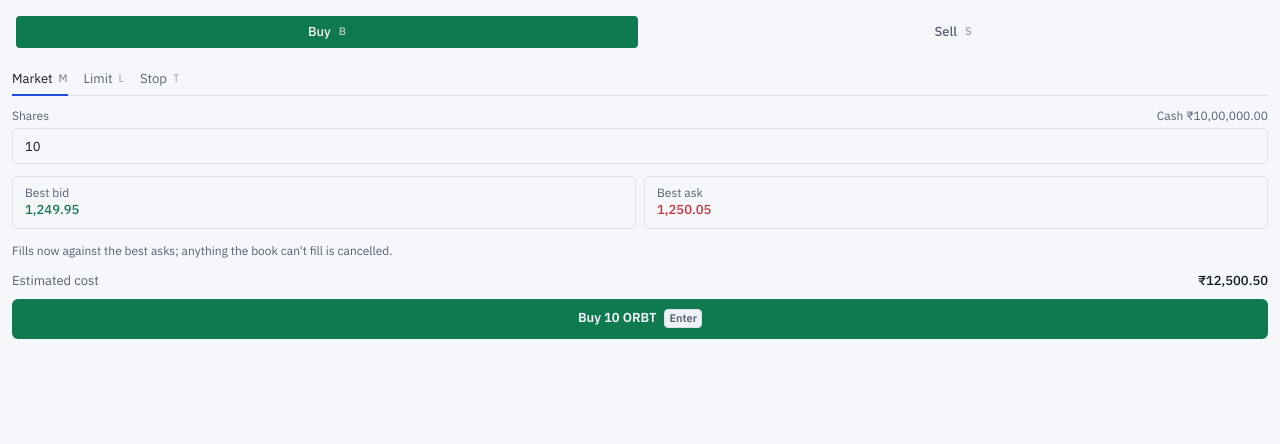
Scenario: OrderTicket › clears the last order's outcome when the type changes
Click the button "Buy 10 ORBT Enter".
click(640, 319)  # box [12, 299, 1268, 339]
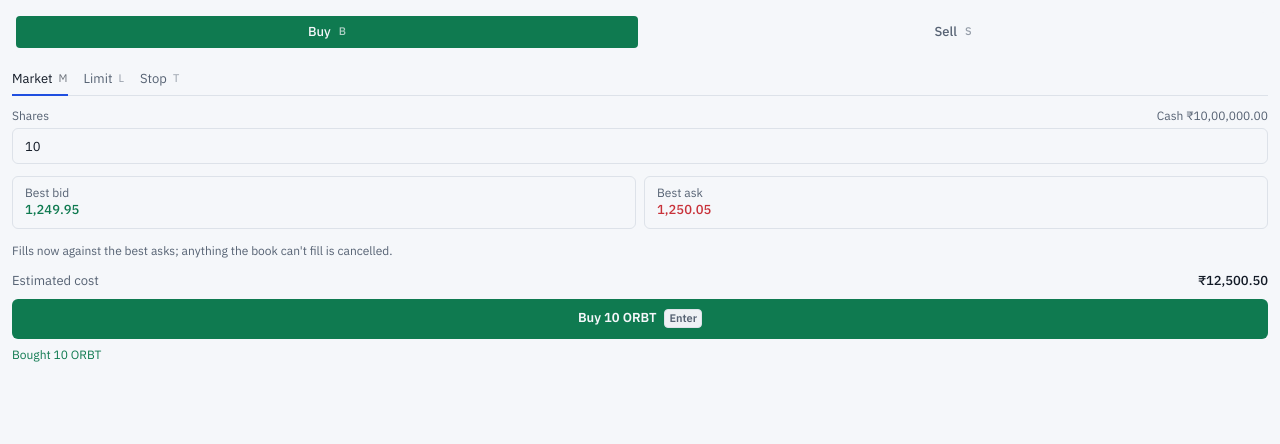
Now the text "Bought 10 ORBT" is shown, box [12, 347, 101, 362]
Type keys "l"
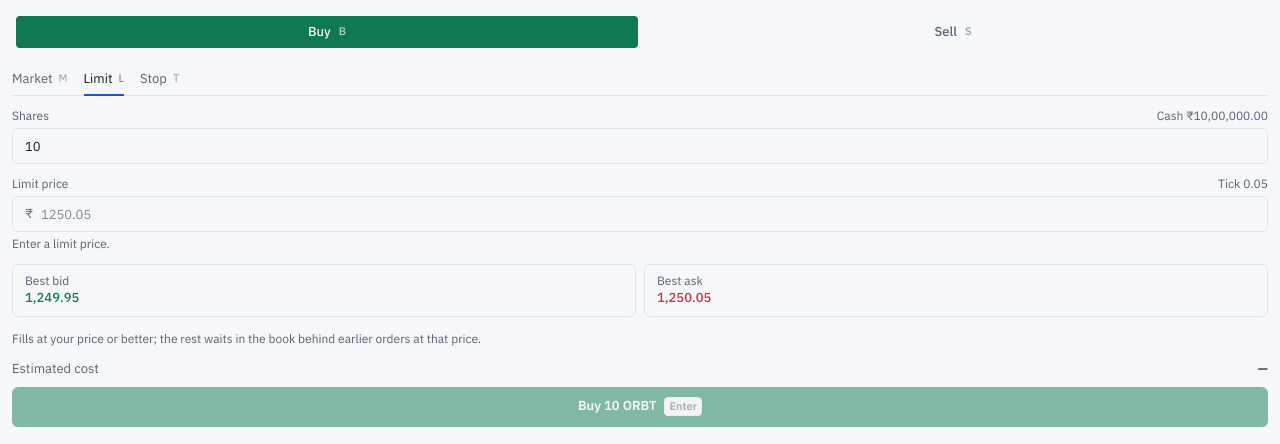
Now the text "Bought 10 ORBT" is gone
